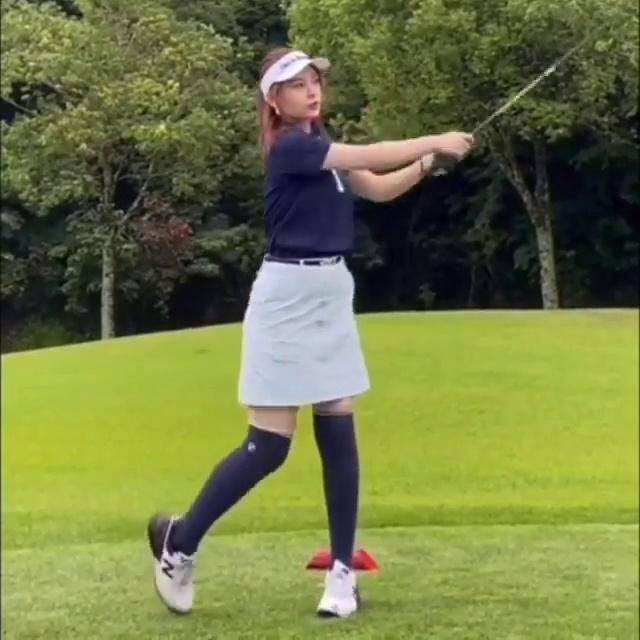golf club-handle: (471, 23, 606, 133)
